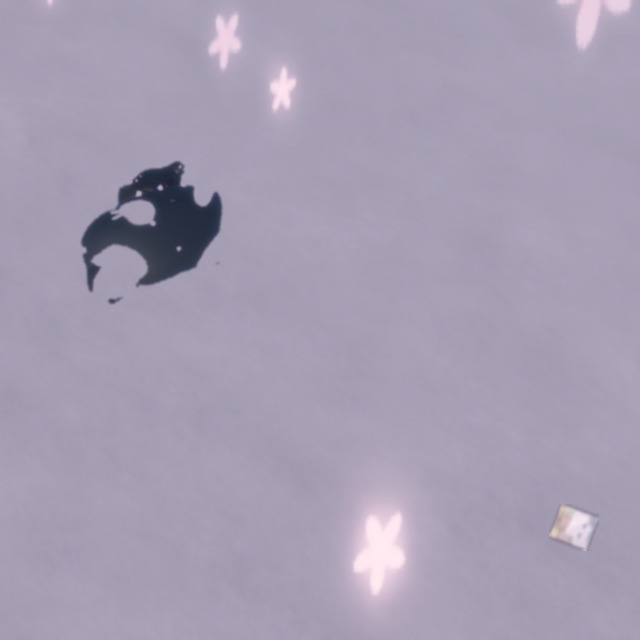urso_branco: (549, 504, 599, 551)
urso_preto: (25, 120, 276, 346)
